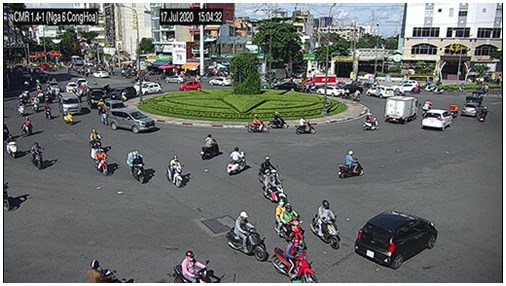xe_hoi: (353, 210, 437, 269), (109, 109, 156, 135), (421, 109, 453, 132), (109, 86, 138, 101), (105, 100, 128, 117), (462, 101, 483, 118), (269, 81, 301, 92), (366, 85, 393, 98), (316, 86, 344, 96), (138, 83, 163, 94), (206, 76, 233, 86), (393, 82, 417, 93), (180, 80, 201, 91), (165, 75, 187, 84), (93, 69, 108, 79), (66, 81, 79, 92)
xe_khach: (57, 91, 81, 114)
xe_may: (227, 210, 268, 263), (273, 239, 320, 283), (274, 198, 307, 251), (311, 200, 339, 251), (171, 250, 212, 283), (261, 169, 288, 204), (337, 151, 365, 179), (87, 259, 119, 282), (126, 150, 146, 186), (258, 156, 279, 186), (226, 146, 246, 176), (166, 155, 183, 189), (89, 146, 108, 176), (200, 134, 220, 162), (247, 113, 268, 134), (30, 142, 43, 171), (294, 117, 315, 134), (89, 128, 103, 153), (270, 111, 288, 130), (362, 113, 380, 131), (19, 116, 33, 138), (6, 134, 18, 159), (477, 105, 490, 125), (98, 105, 108, 126), (422, 97, 432, 116), (63, 109, 74, 126), (43, 103, 52, 121), (449, 102, 458, 118), (18, 100, 25, 116), (353, 89, 360, 102)
xe_tai: (385, 96, 416, 125), (86, 85, 105, 108)
